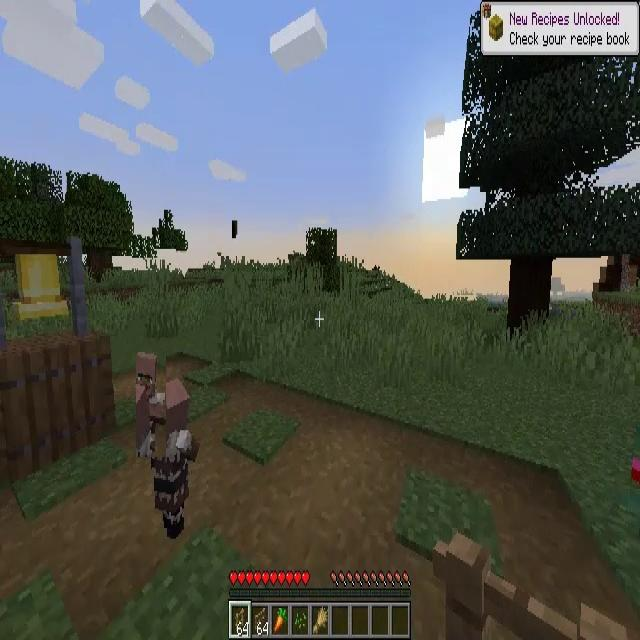people: (150, 378, 198, 538), (136, 352, 166, 457)
